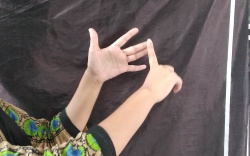u: (79, 24, 170, 89)
